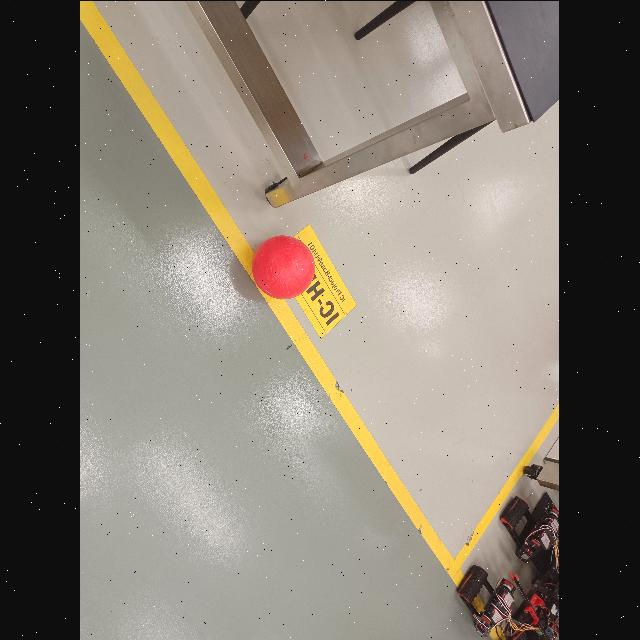R: (252, 235, 316, 297)
